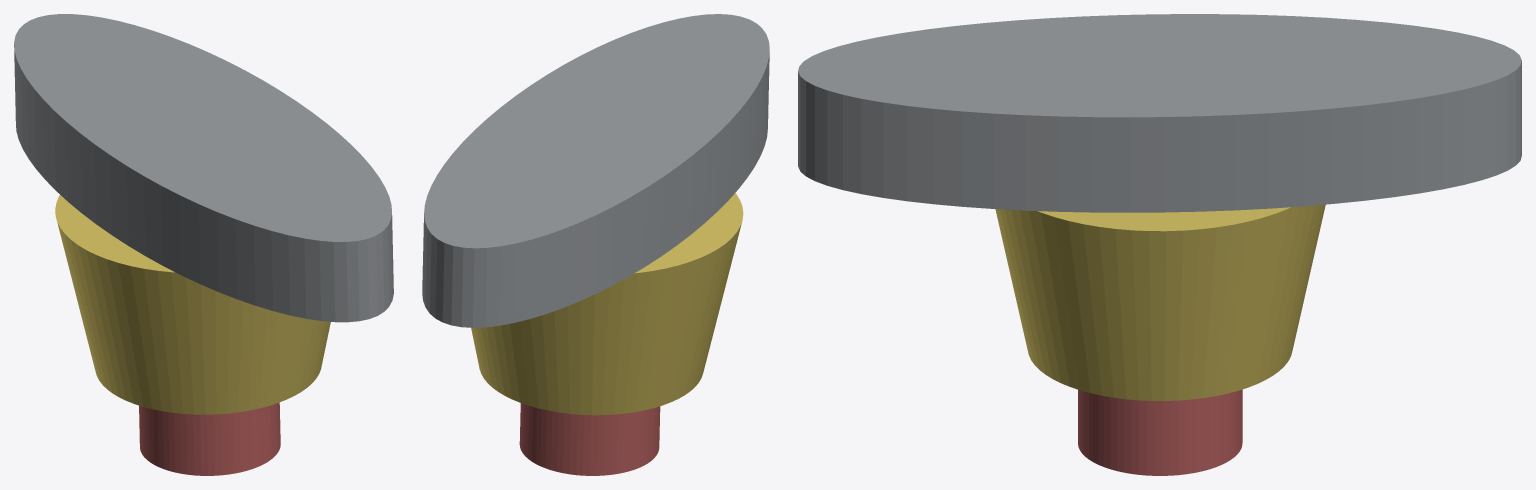
File: reference-candidate.glb
3 renders of one model, left to right at view 1: azimuth 30°, elevation 25°; view 2: azimuth 150°, elevation 25°; view 3: azimuth 270°, elevation 25°, orthographic. The views are drawn at different scales.
Parts seen in each view (by area): view 1: gray-housing, yellow-body, red-actuator; view 2: gray-housing, yellow-body, red-actuator; view 3: gray-housing, yellow-body, red-actuator.
Boxes of the visible parts, x1=… form: gray-housing: x1=14, y1=14, x2=393, y2=322; yellow-body: x1=55, y1=195, x2=330, y2=414; red-actuator: x1=139, y1=402, x2=280, y2=475; gray-housing: x1=422, y1=14, x2=769, y2=327; yellow-body: x1=471, y1=193, x2=743, y2=415; red-actuator: x1=519, y1=403, x2=660, y2=475; gray-housing: x1=798, y1=14, x2=1521, y2=212; yellow-body: x1=995, y1=204, x2=1325, y2=400; red-actuator: x1=1078, y1=389, x2=1242, y2=475.
Bounding box in the file's own units: 0.1297 × 0.1546 × 0.2685.
